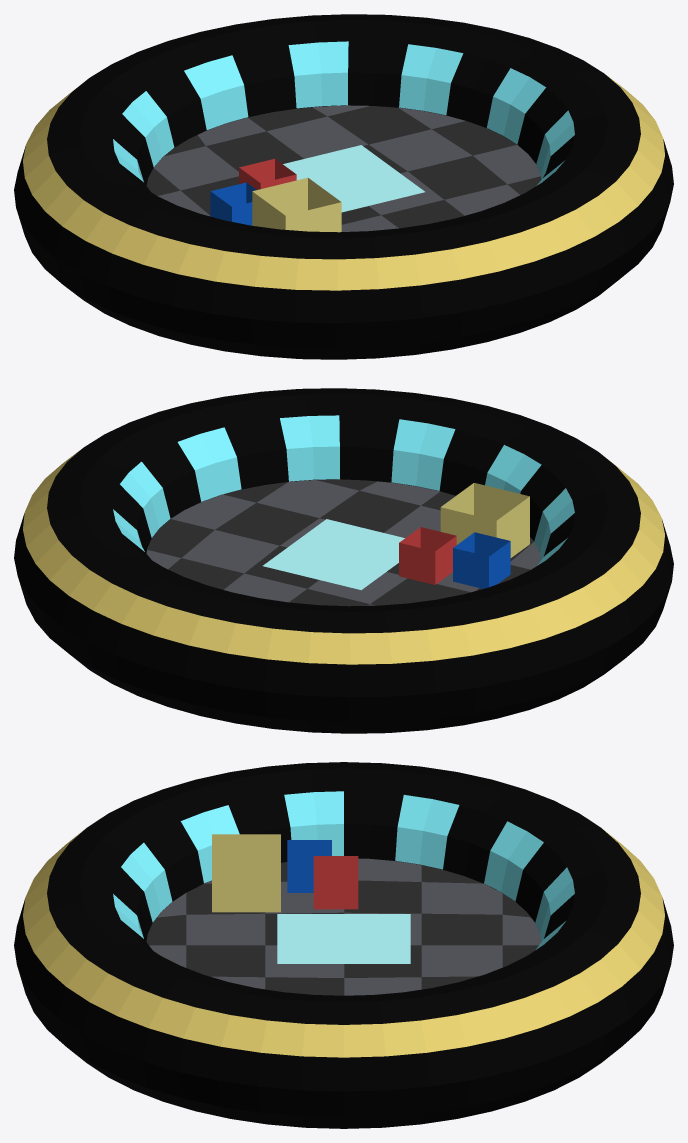
Rendered from Plataform.fbx.
The picture shows the model from 3 angles, top to bottom: view 1: azimuth 30°, elevation 25°; view 2: azimuth 150°, elevation 25°; view 3: azimuth 270°, elevation 25°; orthographic projection. The views are drawn at different scales.
Visible parts, largest first — view 1: Torus.001, Plane, Plane.001, Cube, Cube.001, Cube.002; view 2: Torus.001, Plane, Plane.001, Cube, Cube.001, Cube.002; view 3: Torus.001, Plane, Plane.001, Cube, Cube.002, Cube.001.
Part boxes in pixels (x1,y1,x2,y2): Torus.001: (14, 14, 673, 359); Plane: (146, 105, 541, 231); Plane.001: (283, 145, 424, 212); Cube: (252, 177, 341, 232); Cube.001: (210, 182, 256, 225); Cube.002: (239, 158, 296, 189); Torus.001: (14, 388, 673, 733); Plane: (146, 479, 541, 606); Plane.001: (263, 519, 404, 590); Cube: (440, 483, 529, 557); Cube.001: (453, 532, 510, 588); Cube.002: (399, 527, 456, 584); Torus.001: (14, 762, 673, 1128); Plane: (146, 858, 541, 995); Plane.001: (277, 914, 410, 963); Cube: (212, 834, 280, 912); Cube.002: (313, 856, 358, 909); Cube.001: (287, 840, 331, 892).
Size of the model in its own units: 585 by 112 by 558.
